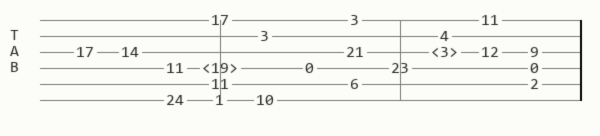0: (305, 61, 318, 75), (530, 61, 543, 75)
1: (215, 93, 228, 107)
10: (256, 93, 278, 107)
11: (166, 61, 188, 75), (211, 77, 233, 91), (481, 13, 503, 27)
12: (481, 45, 503, 59)
14: (121, 45, 143, 59)
17: (76, 45, 98, 59), (211, 13, 233, 27)
2: (530, 77, 543, 91)
21: (346, 45, 368, 59)
23: (391, 61, 413, 75)
24: (166, 93, 188, 107)
3: (260, 29, 273, 43), (350, 13, 363, 27)
4: (440, 29, 453, 43)
6: (350, 77, 363, 91)
9: (530, 45, 543, 59)
harmonic: (202, 61, 242, 75), (431, 45, 462, 59)
